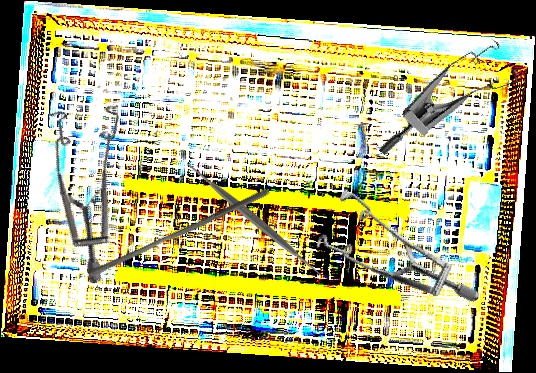Pusher: (87, 180, 271, 285)
Spatula Surgical: (187, 152, 321, 287)
Speculum: (4, 81, 191, 286), (299, 156, 481, 355), (376, 19, 530, 194)
